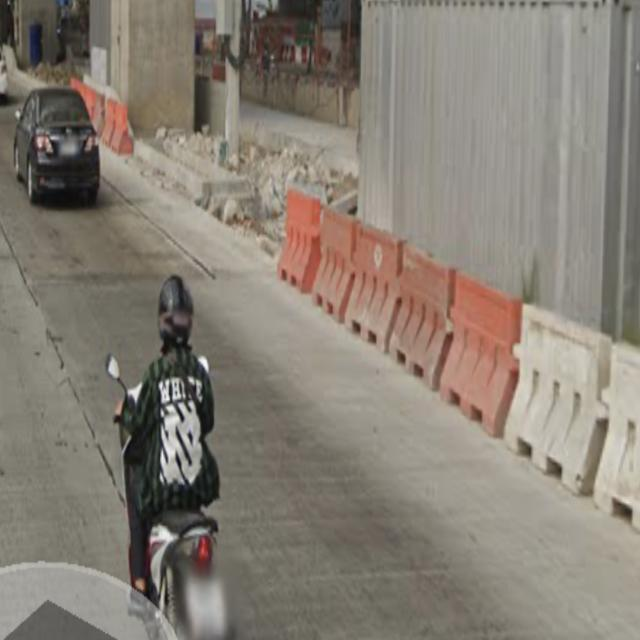fallen_object: (499, 266, 640, 533), (335, 196, 445, 388), (432, 250, 528, 442), (43, 63, 140, 171), (300, 192, 353, 327), (269, 175, 324, 290)
